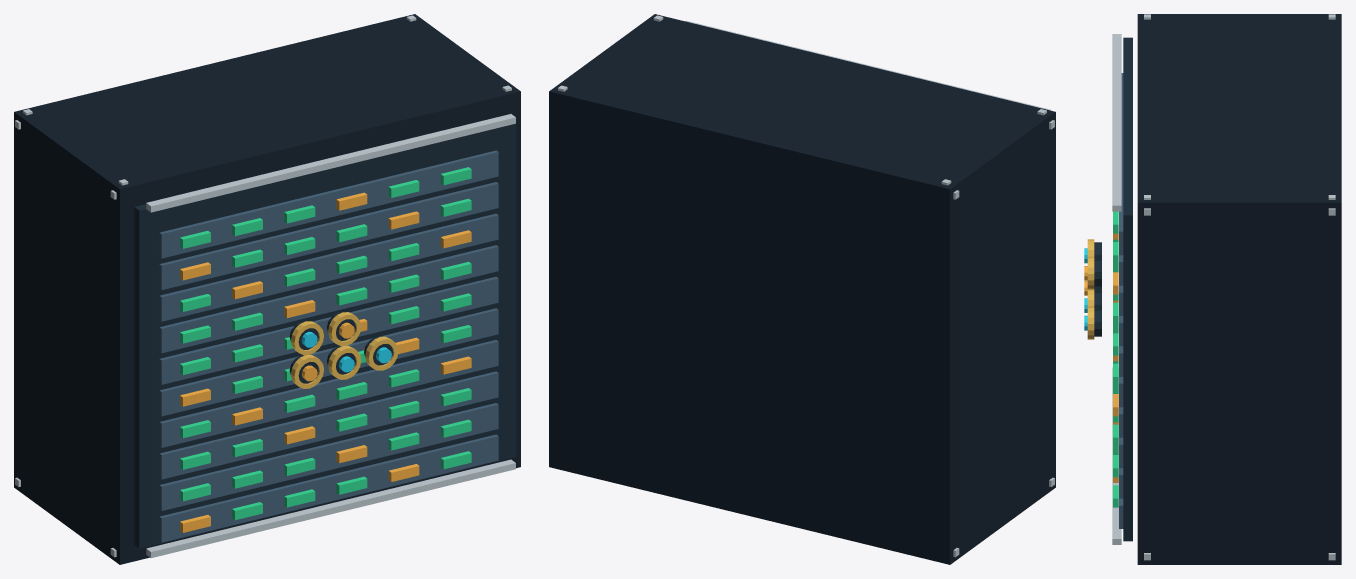
File: 57_L81_ProtectedPowerDistributionCabinet.fbx
3 views of the same model, side by side, from view 1: azimuth 30°, elevation 25°; view 2: azimuth 150°, elevation 25°; view 3: azimuth 270°, elevation 25° (orthographic). The views are drawn at different scales.
Parts seen in each view (by area): view 1: ProtectedPowerDistributionCabinet; view 2: ProtectedPowerDistributionCabinet; view 3: ProtectedPowerDistributionCabinet.
Boxes of the visible parts, x1,y1,x2,y2 form: ProtectedPowerDistributionCabinet: (14, 14, 520, 564); ProtectedPowerDistributionCabinet: (549, 14, 1055, 564); ProtectedPowerDistributionCabinet: (1084, 14, 1341, 564).
Bounding box in the file's own units: 164 × 147 × 93.45.
